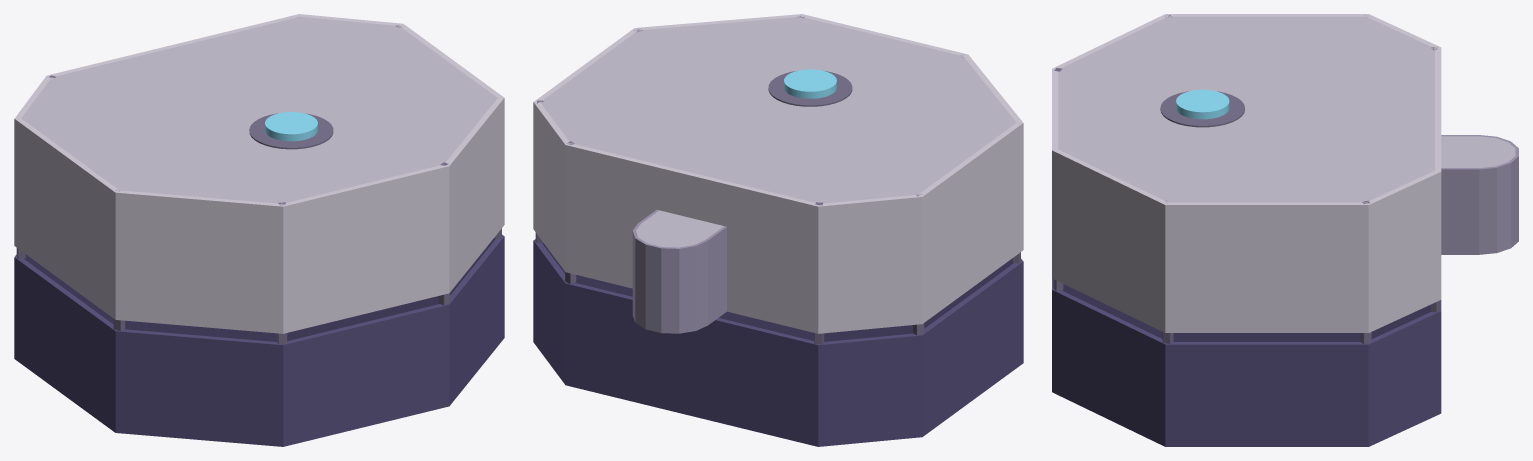
The model's file is engineering-deck.glb.
3 renders of one model, left to right at view 1: azimuth 30°, elevation 25°; view 2: azimuth 150°, elevation 25°; view 3: azimuth 270°, elevation 25°, orthographic.
Visible parts, largest first — view 1: gallery wall 0, ceiling, lower wall, gallery underside, core column, core collar; view 2: ceiling, gallery wall 0, lower wall, turbolift wall, gallery underside, gallery wall lintel, turbolift ceiling, core column, core collar; view 3: ceiling, gallery wall 0, lower wall, turbolift wall, gallery underside, turbolift ceiling, core column, core collar.
Part boxes in pixels (x1,y1,x2,y2): gallery wall 0: [14, 14, 504, 333]; ceiling: [21, 16, 497, 203]; lower wall: [14, 234, 504, 446]; gallery underside: [24, 238, 495, 341]; core column: [265, 112, 317, 141]; core collar: [249, 113, 333, 149]; ceiling: [540, 17, 1016, 203]; gallery wall 0: [533, 14, 1023, 333]; lower wall: [533, 239, 1023, 446]; turbolift wall: [632, 210, 726, 333]; gallery underside: [542, 243, 1013, 341]; gallery wall lintel: [662, 166, 723, 225]; turbolift ceiling: [636, 210, 723, 247]; core column: [784, 69, 836, 98]; core collar: [768, 70, 852, 106]; ceiling: [1058, 16, 1434, 202]; gallery wall 0: [1052, 14, 1441, 332]; lower wall: [1052, 278, 1441, 446]; turbolift wall: [1441, 135, 1518, 254]; gallery underside: [1062, 284, 1430, 341]; turbolift ceiling: [1441, 136, 1515, 167]; core column: [1176, 89, 1229, 119]; core collar: [1160, 91, 1244, 127].
Bounding box in the file's own units: 14.4 × 8.81 × 14.87.
